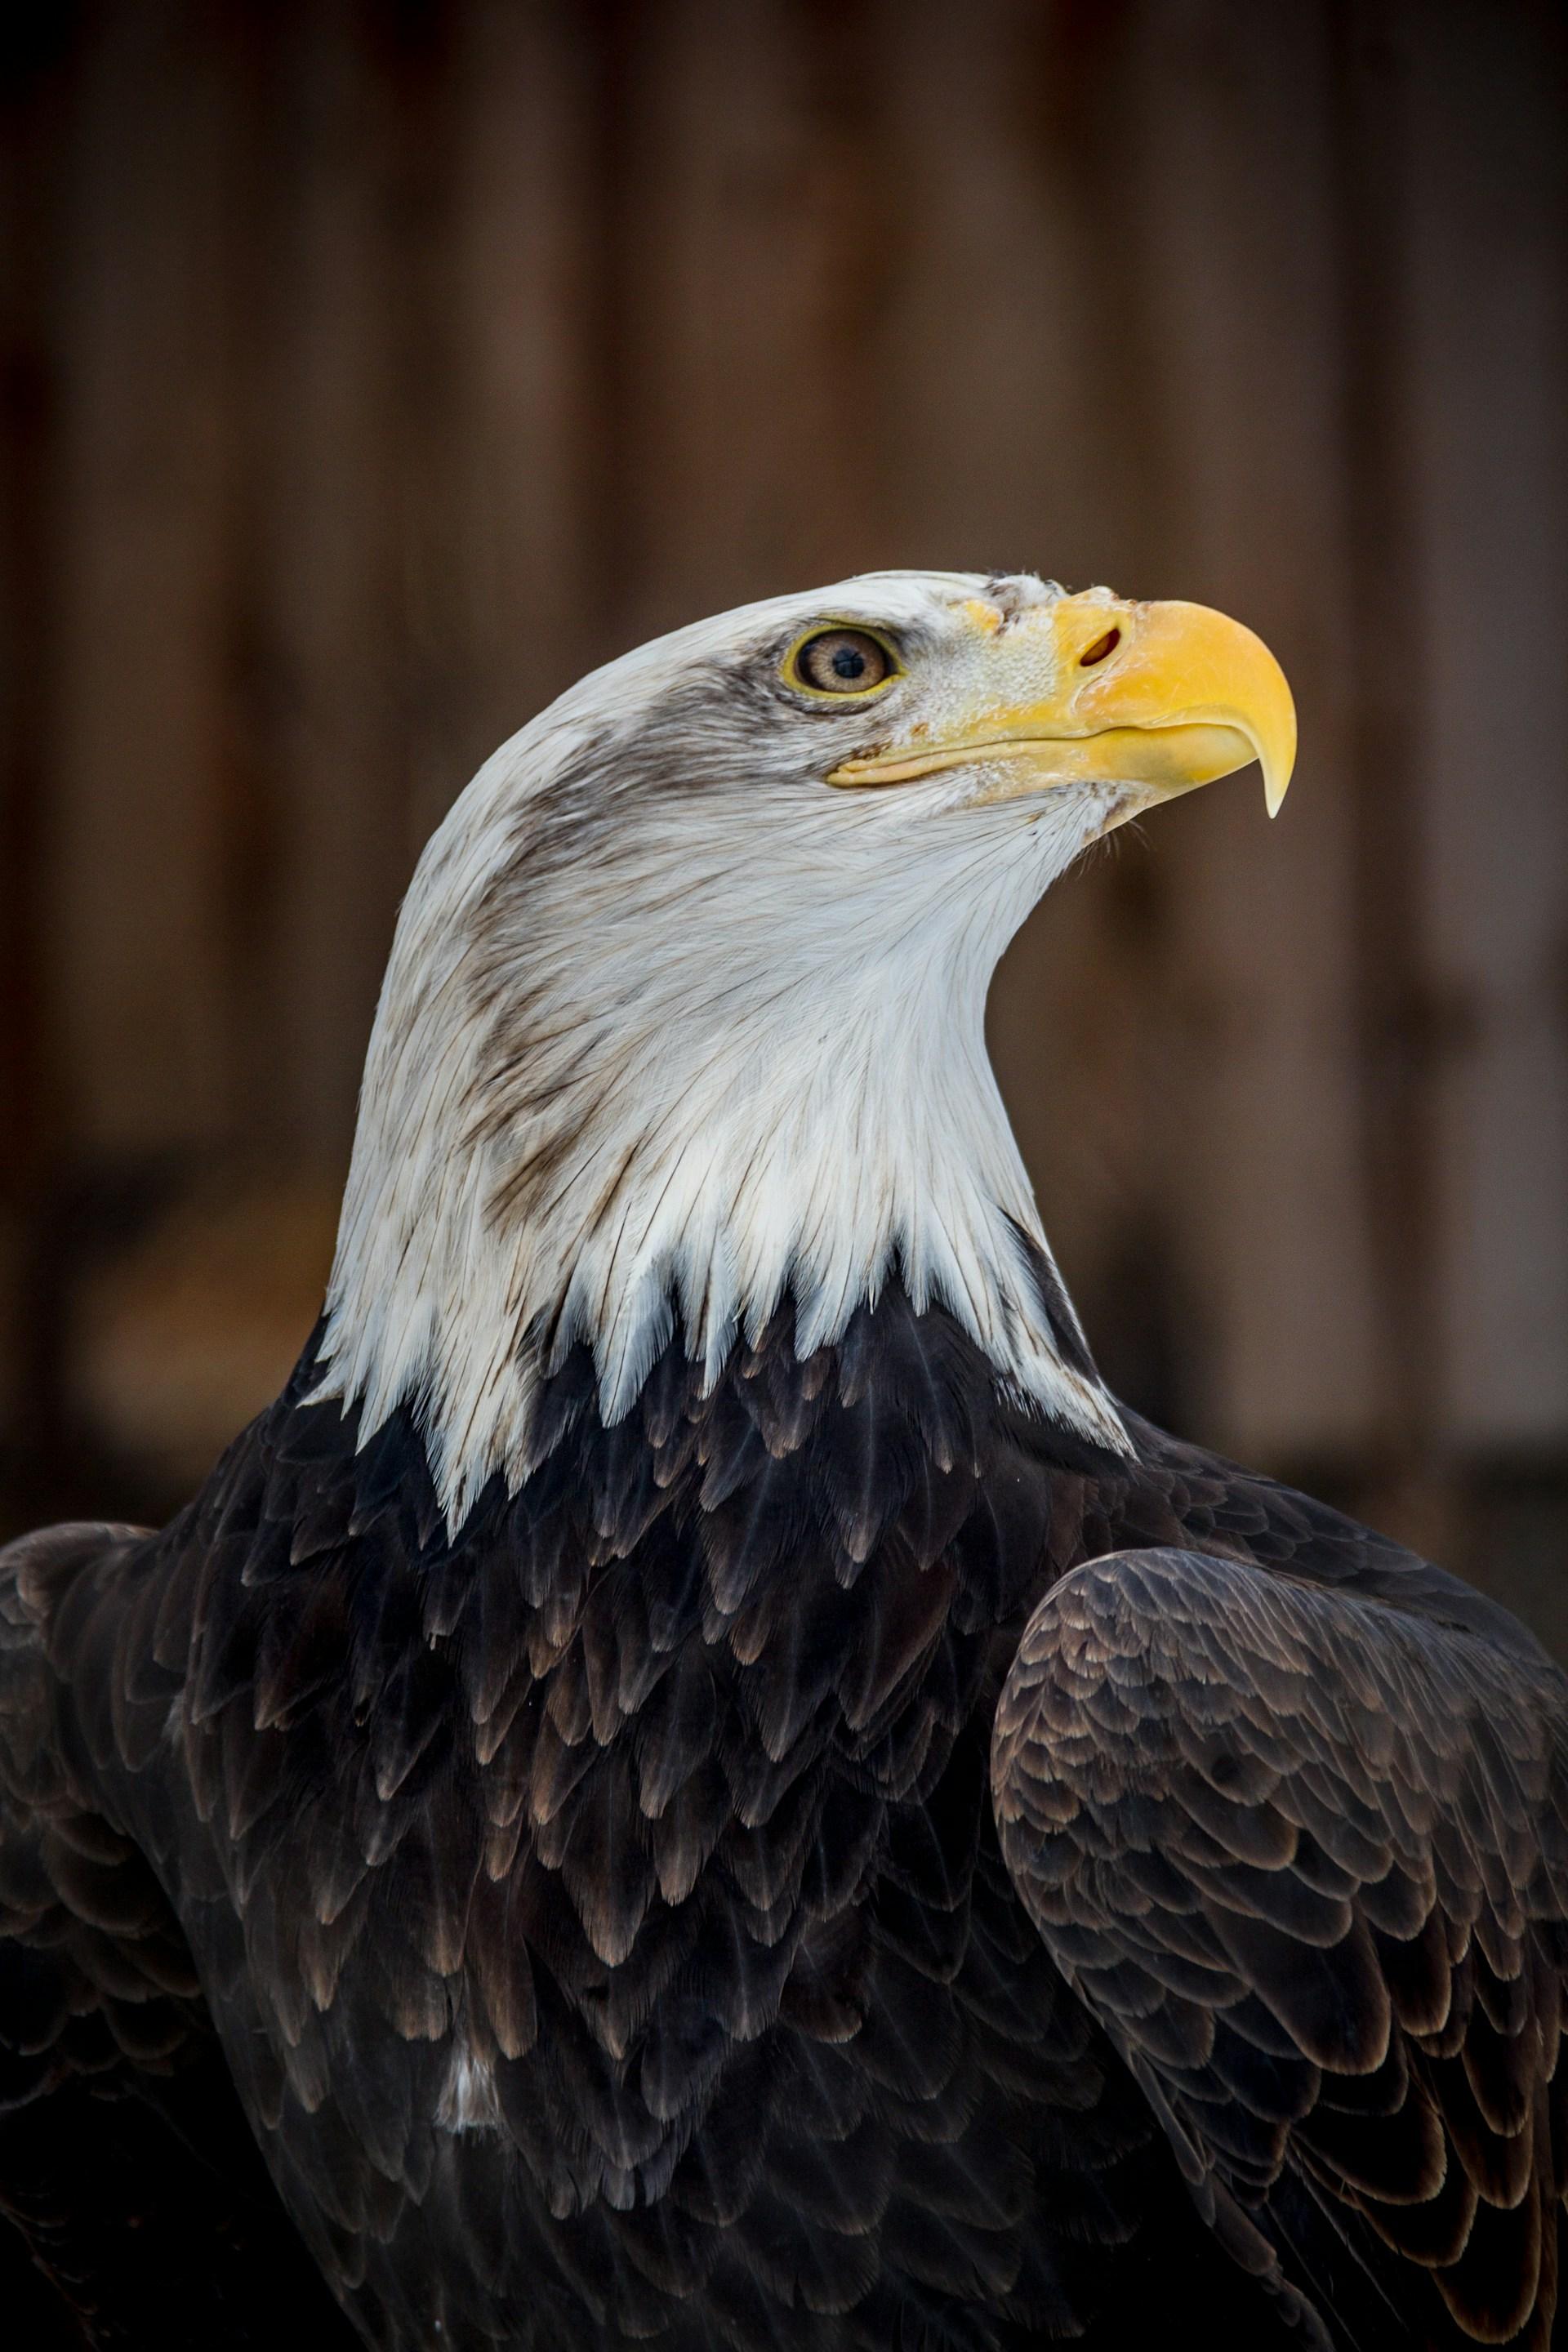eagle: (0, 520, 1549, 2352)
